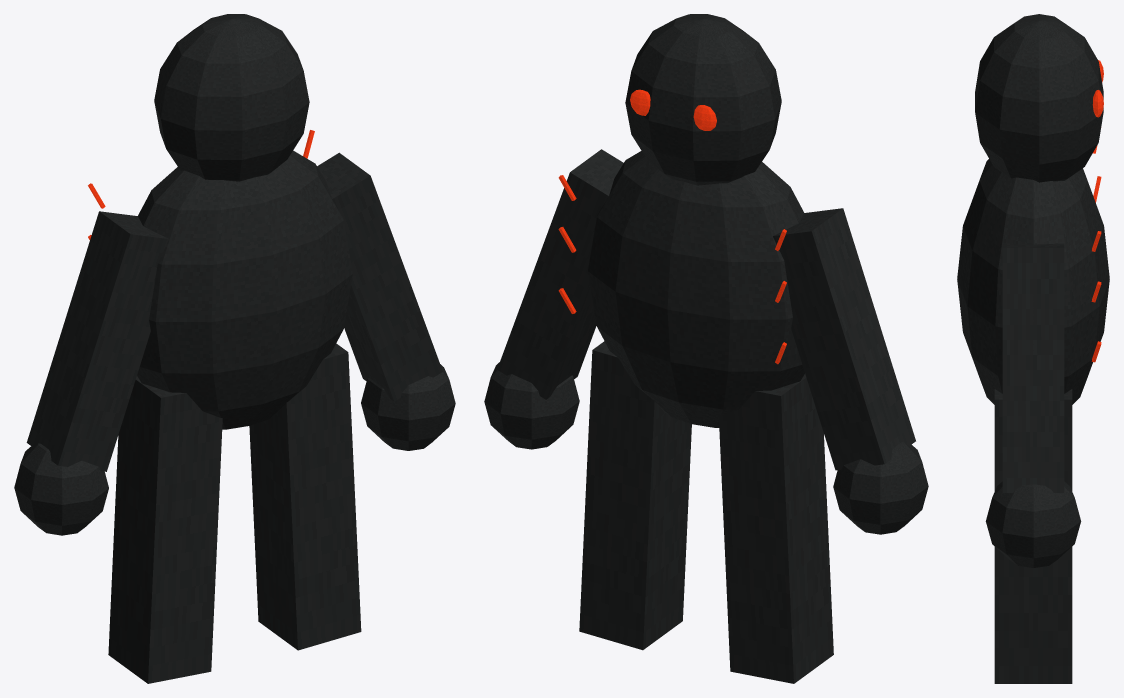
File: SK_Boss_caldera_titan_silhouette.gltf
3 renders of one model, left to right at view 1: azimuth 30°, elevation 25°; view 2: azimuth 150°, elevation 25°; view 3: azimuth 270°, elevation 25°, orthographic. The views are drawn at different scales.
Visible parts, largest first — view 1: root; view 2: root; view 3: root.
Boxes of the visible parts, x1=… form: root: x1=14, y1=14, x2=455, y2=683; root: x1=484, y1=14, x2=928, y2=683; root: x1=957, y1=14, x2=1109, y2=683.
Size of the model in its own units: 3.3 by 4.62 by 1.04.
2 materials, 2 textured.
